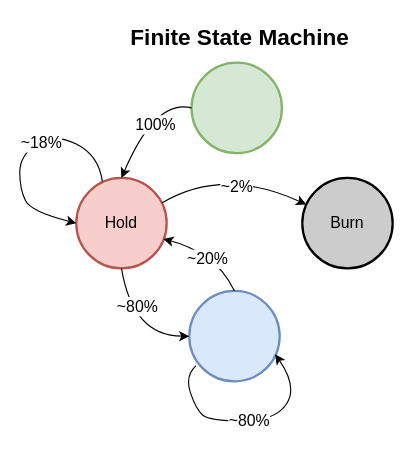
The diagram is 414 pixels wide and 450 high, and some of its shapes have lost their labels. The shapes that lost their labels are listed below. From the top down, each one's centre as x and y in pixels, then its label:
the point at 236,107: Mint
the point at 234,335: LP
